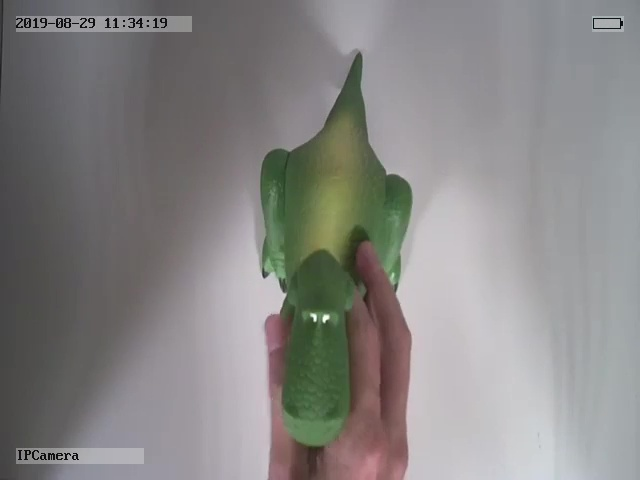rex: (257, 47, 414, 448)
